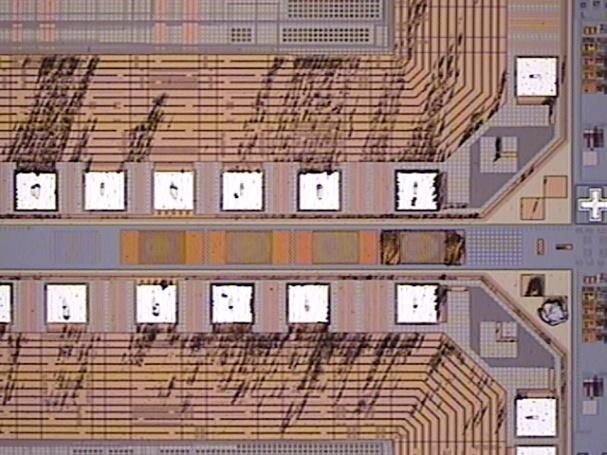SCRATCH: (1, 1, 573, 444)
